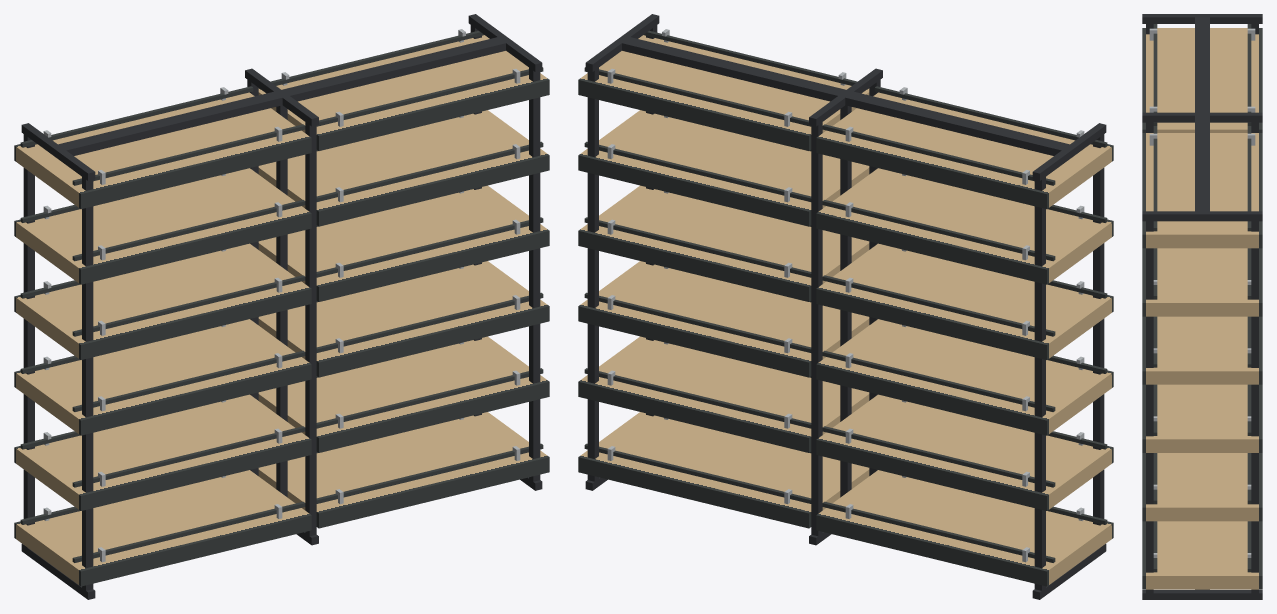
Rendered from shelf.glb.
3 views of the same model, side by side, from view 1: azimuth 30°, elevation 25°; view 2: azimuth 150°, elevation 25°; view 3: azimuth 270°, elevation 25° (orthographic). The views are drawn at different scales.
Visible parts, largest first — view 1: ShelfParts$$(2)-Local_11, ShelfParts$$(3)-Local_13, ShelfParts$$(5)-Local_17, ShelfParts$$(1)-Local_9, ShelfParts-Local_7, ShelfParts$$(7)-Local_21, ShelfParts$$(8)-Local_23, ShelfParts$$(11)-Local_29, ShelfParts$$(10)-Local_27, ShelfParts$$(9)-Local_25, ShelfParts$$(4)-Local_15, ShelfParts$$(6)-Local_19 (+12 smaller); view 2: ShelfParts$$(2)-Local_11, ShelfParts$$(3)-Local_13, ShelfParts$$(5)-Local_17, ShelfParts$$(1)-Local_9, ShelfParts-Local_7, ShelfParts$$(7)-Local_21, ShelfParts$$(8)-Local_23, ShelfParts$$(11)-Local_29, ShelfParts$$(10)-Local_27, ShelfParts$$(9)-Local_25, ShelfParts$$(4)-Local_15, ShelfParts$$(6)-Local_19 (+12 smaller); view 3: ShelfParts$$(6)-Local_19, ShelfParts$$(4)-Local_15, ShelfParts$$(10)-Local_27, ShelfParts$$(11)-Local_29, ShelfParts$$(7)-Local_21, ShelfParts$$(8)-Local_23, ShelfParts$$(9)-Local_25, Shelf-2Parts-Local_33, Shelf-2Parts$$(1)-Local_35, Shelf-2Parts$$(10)-Local_53, Shelf-2Parts$$(12)-Local_57, Shelf-2Parts$$(2)-Local_37 (+2 smaller).
Boxes of the visible parts, x1,y1,x2,y2 form: ShelfParts$$(2)-Local_11: (14,243,311,359); ShelfParts$$(3)-Local_13: (14,319,311,435); ShelfParts$$(5)-Local_17: (14,168,311,284); ShelfParts$$(1)-Local_9: (14,394,311,510); ShelfParts-Local_7: (14,470,311,586); ShelfParts$$(7)-Local_21: (258,110,549,226); ShelfParts$$(8)-Local_23: (258,185,549,301); ShelfParts$$(11)-Local_29: (258,412,549,528); ShelfParts$$(10)-Local_27: (258,336,549,452); ShelfParts$$(9)-Local_25: (258,261,549,377); ShelfParts$$(4)-Local_15: (14,86,311,209); ShelfParts$$(6)-Local_19: (258,29,549,150); ShelfParts$$(2)-Local_11: (816,243,1113,359); ShelfParts$$(3)-Local_13: (816,319,1113,435); ShelfParts$$(5)-Local_17: (816,168,1113,284); ShelfParts$$(1)-Local_9: (816,394,1113,510); ShelfParts-Local_7: (816,470,1113,586); ShelfParts$$(7)-Local_21: (578,110,869,226); ShelfParts$$(8)-Local_23: (578,185,869,301); ShelfParts$$(11)-Local_29: (578,412,869,528); ShelfParts$$(10)-Local_27: (578,336,869,452); ShelfParts$$(9)-Local_25: (578,261,869,377); ShelfParts$$(4)-Local_15: (816,86,1113,209); ShelfParts$$(6)-Local_19: (578,29,869,150); ShelfParts$$(6)-Local_19: (1142,126,1262,248); ShelfParts$$(4)-Local_15: (1142,24,1262,132); ShelfParts$$(10)-Local_27: (1142,453,1262,521); ShelfParts$$(11)-Local_29: (1142,521,1262,589); ShelfParts$$(7)-Local_21: (1142,248,1262,316); ShelfParts$$(8)-Local_23: (1142,316,1262,384); ShelfParts$$(9)-Local_25: (1142,384,1262,452); Shelf-2Parts-Local_33: (1142,14,1262,122); Shelf-2Parts$$(1)-Local_35: (1142,112,1262,221); Shelf-2Parts$$(10)-Local_53: (1251,211,1258,432); Shelf-2Parts$$(12)-Local_57: (1146,211,1153,432); Shelf-2Parts$$(2)-Local_37: (1142,589,1262,599).
Bounding box in the file's own units: 2.61 × 2.27 × 0.6435.
Materials: 30 (30 with a texture image).
